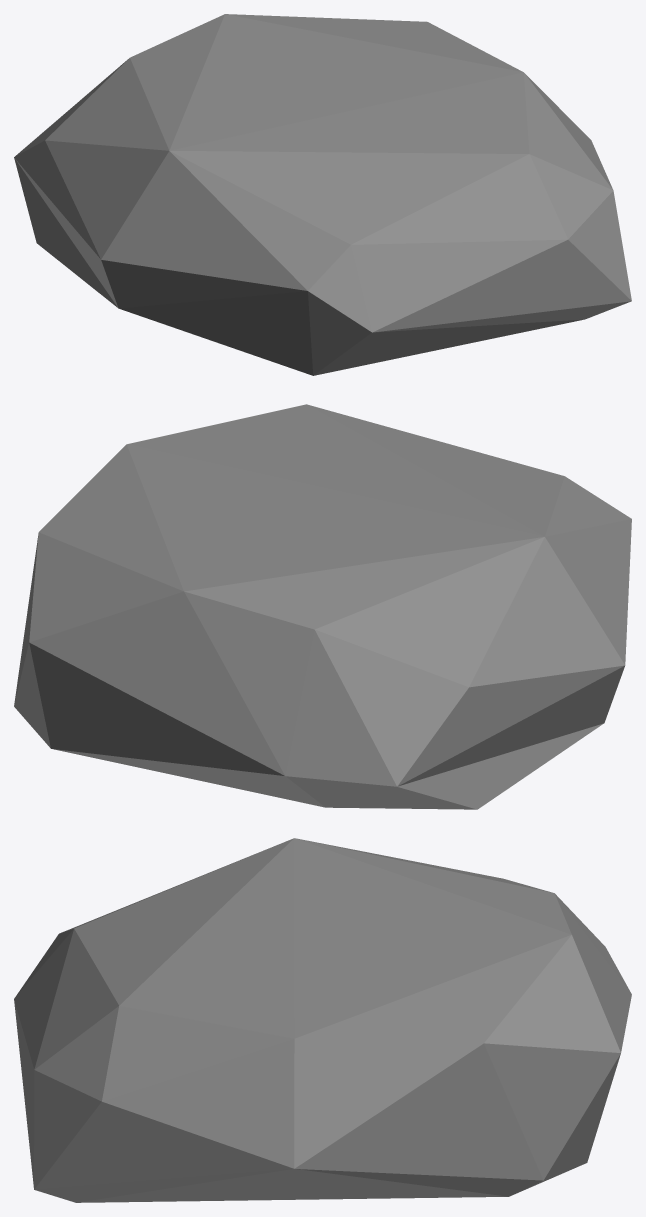
Rendered from rock_01_b.fbx.
The picture shows the model from 3 angles, top to bottom: view 1: azimuth 30°, elevation 25°; view 2: azimuth 150°, elevation 25°; view 3: azimuth 270°, elevation 25°; orthographic projection. The views are drawn at different scales.
Visible parts, largest first — view 1: Rock_01_b; view 2: Rock_01_b; view 3: Rock_01_b.
Part boxes in pixels (box(x1,y1,x2,y2)): Rock_01_b: box(14, 14, 631, 375); Rock_01_b: box(14, 404, 631, 809); Rock_01_b: box(14, 838, 631, 1202).
Size of the model in its own units: 24.3 by 23.92 by 8.29.
